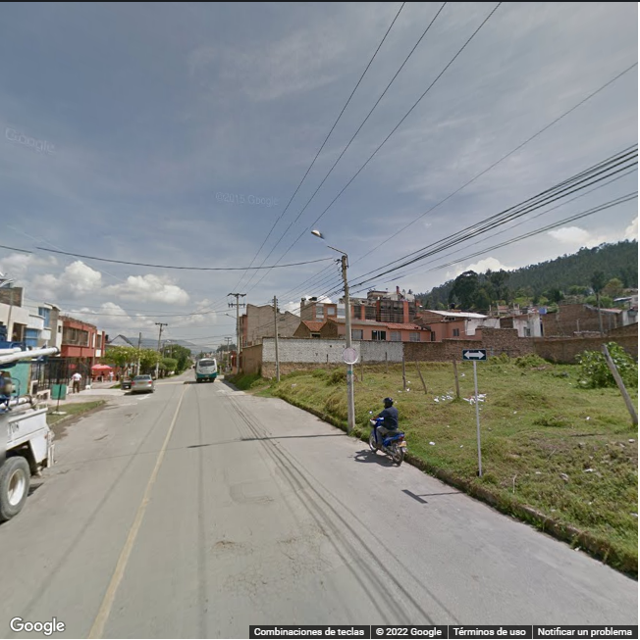D00: (272, 538, 295, 558)
D20: (221, 581, 311, 619)
D40: (210, 535, 242, 550)
